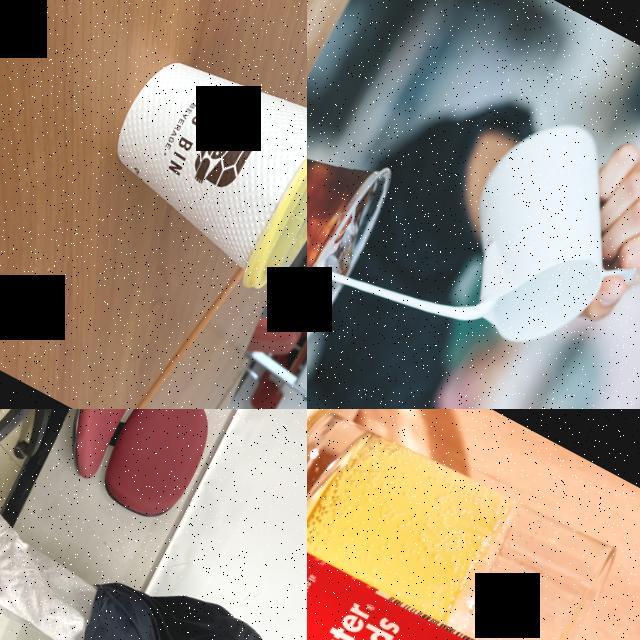can: (307, 500, 636, 640)
cup: (77, 16, 307, 308), (307, 93, 400, 366)
